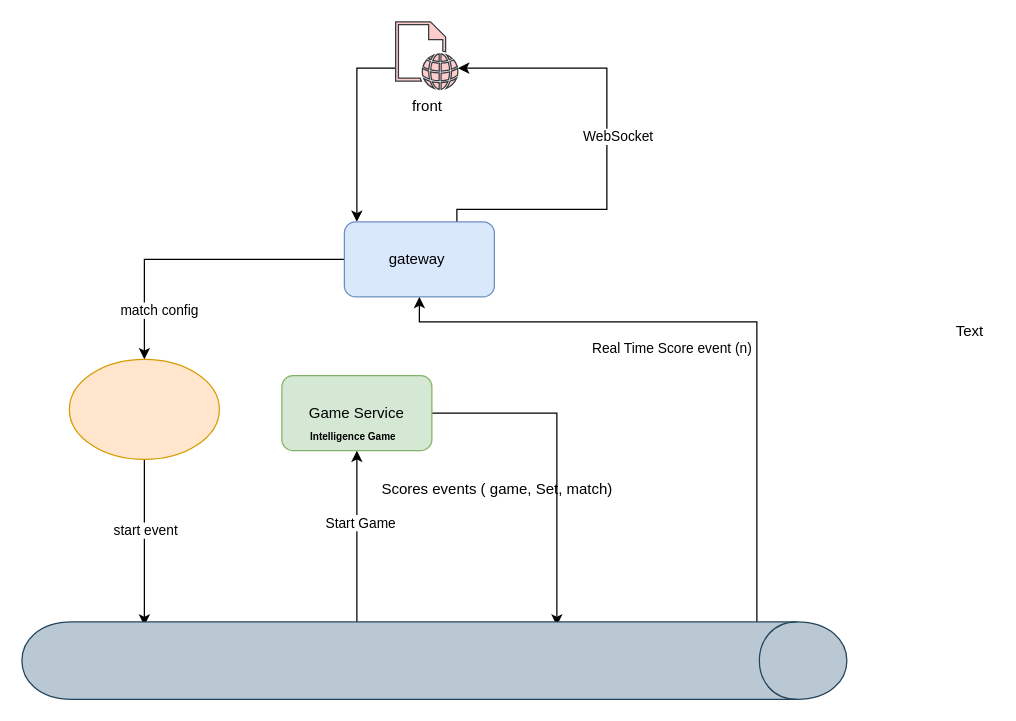
Image size: 1016x721. Some labels were removed from this diagram. Each missing label, with the centre of its shape:
"api match" goes at (x=143, y=408).
"broker kafka" goes at (x=434, y=660).
